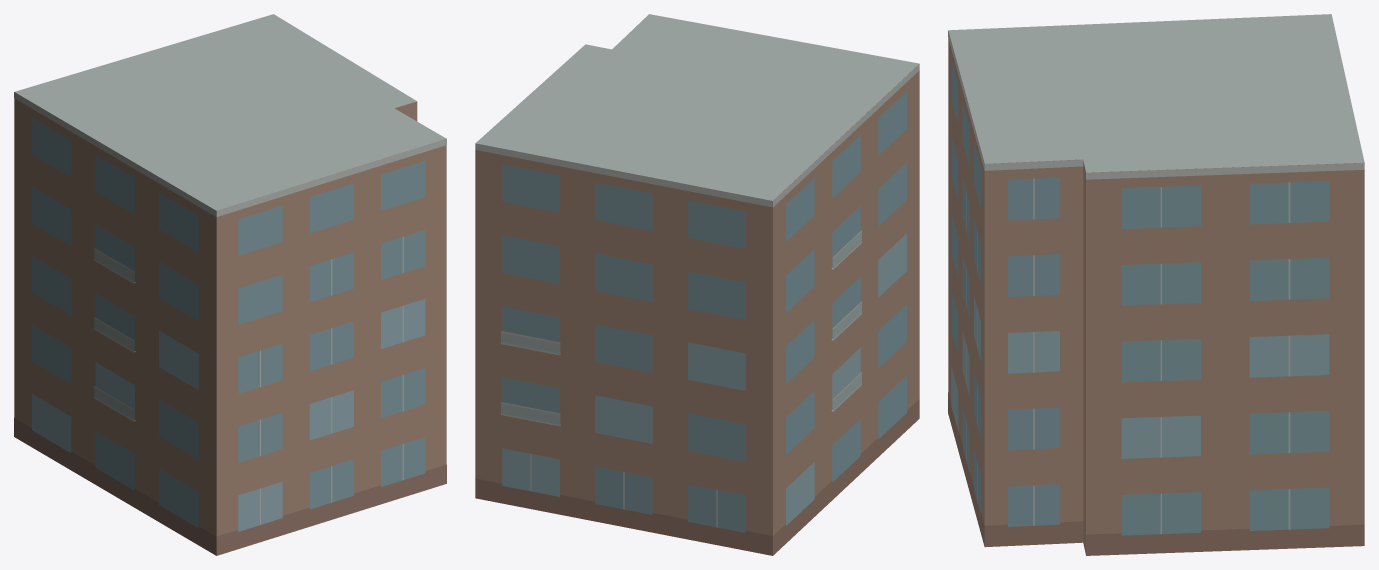
File: survey-upis-32969346.glb
The picture shows the model from 3 angles, left to right: view 1: azimuth 30°, elevation 25°; view 2: azimuth 150°, elevation 25°; view 3: azimuth 270°, elevation 25°; orthographic projection. The views are drawn at different scales.
Visible parts, largest first — view 1: survey-upis-32969346.tmp; view 2: survey-upis-32969346.tmp; view 3: survey-upis-32969346.tmp.
Boxes of the visible parts, x1=… form: survey-upis-32969346.tmp: x1=14, y1=14, x2=446, y2=555; survey-upis-32969346.tmp: x1=475, y1=14, x2=919, y2=555; survey-upis-32969346.tmp: x1=948, y1=14, x2=1364, y2=555.
Size of the model in its own units: 11.79 by 13.27 by 13.08.
